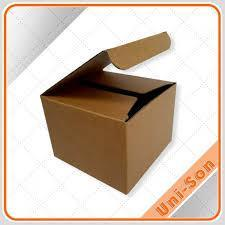box: (39, 31, 177, 196)
